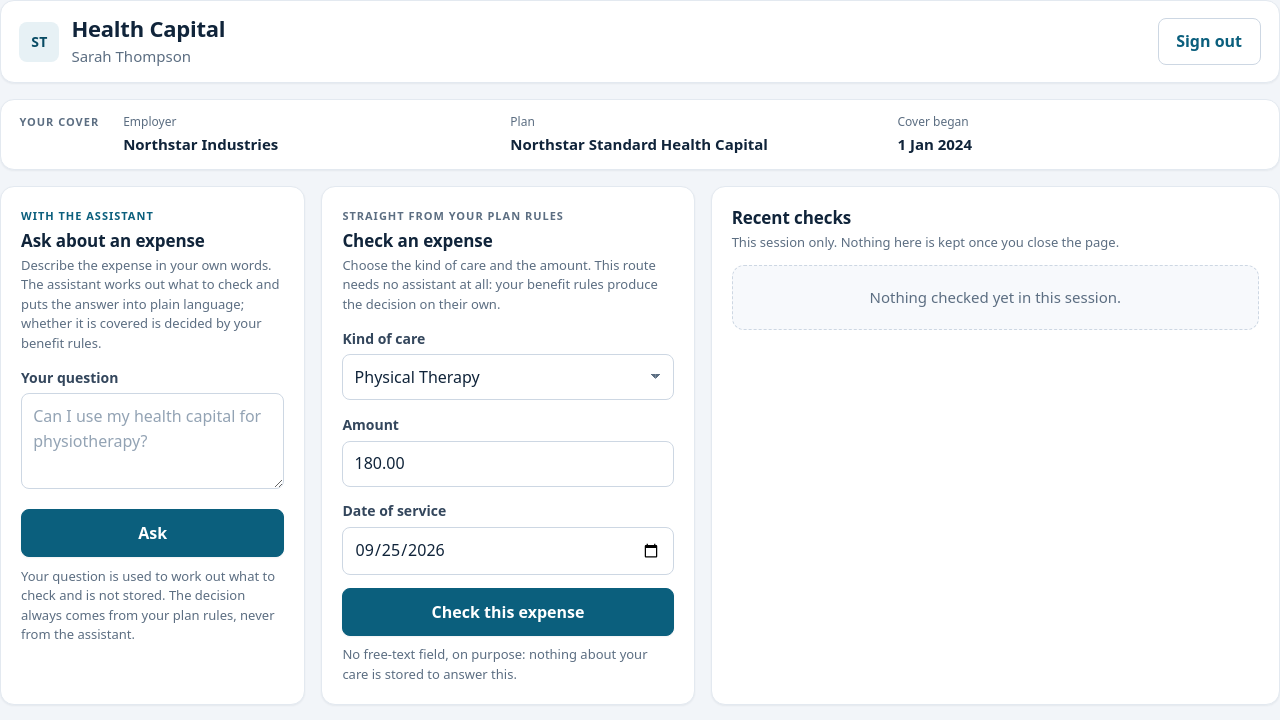
it: recent checks keep one entry per thing that happened › keeps both when the assistant asks the same thing back twice
In the text box labelled "Your question": (153, 441) [21,394,284,489], type "what about that appointment"
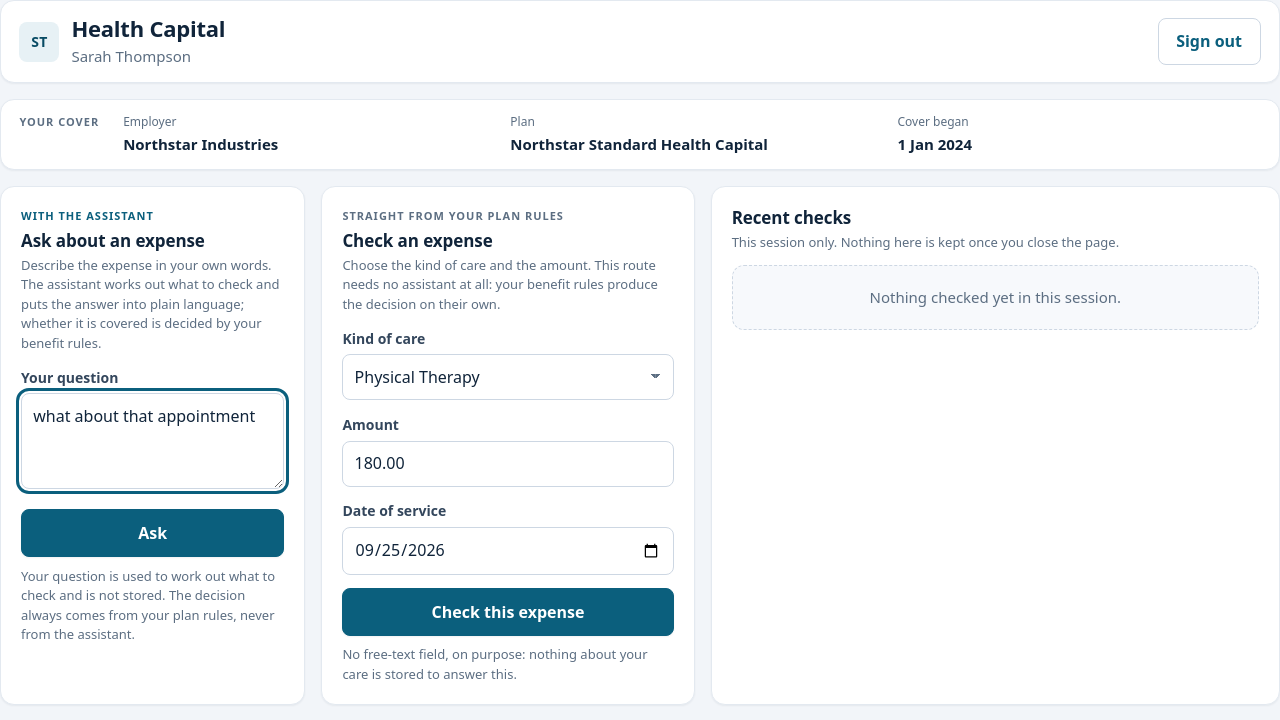
Click the button "Ask": (153, 533) [21,509,284,557]
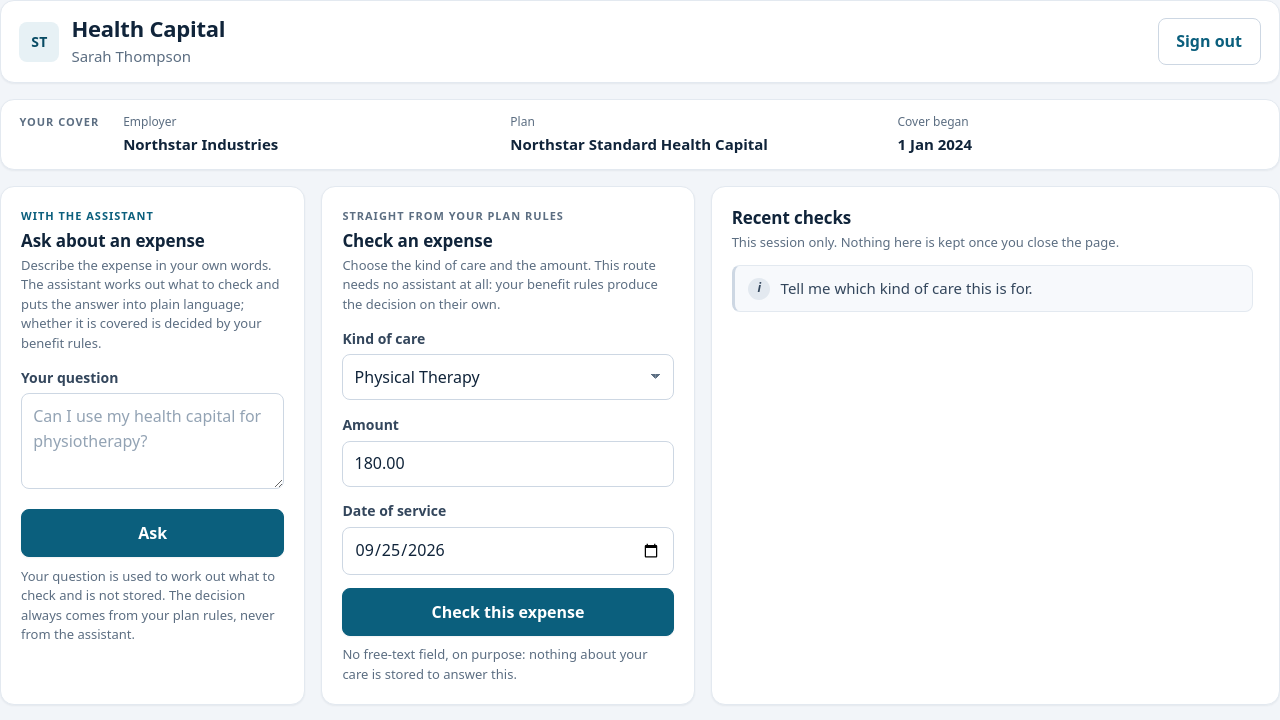
Now the text "Tell me which kind of care this is for." is shown, box [732,265,1253,312]
In the text box labelled "Your question": (153, 441) [21,394,284,489], type "and the other one"
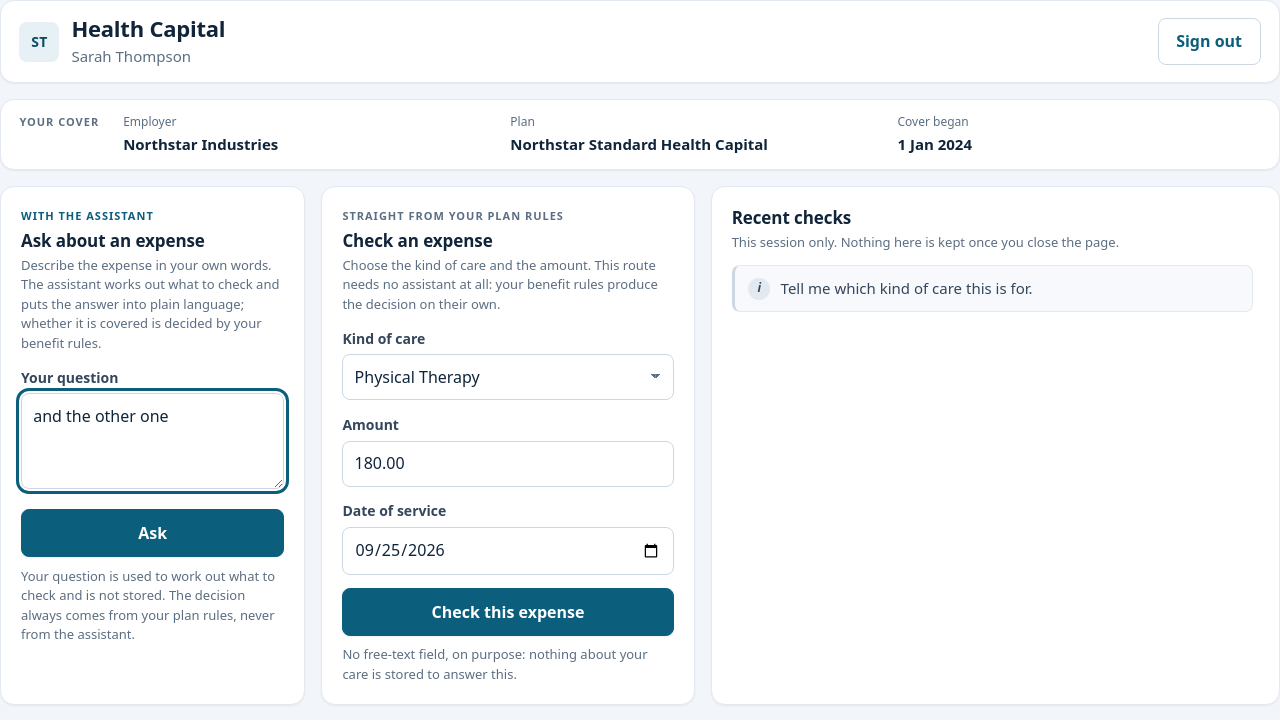
Click the button "Ask": (153, 533) [21,509,284,557]
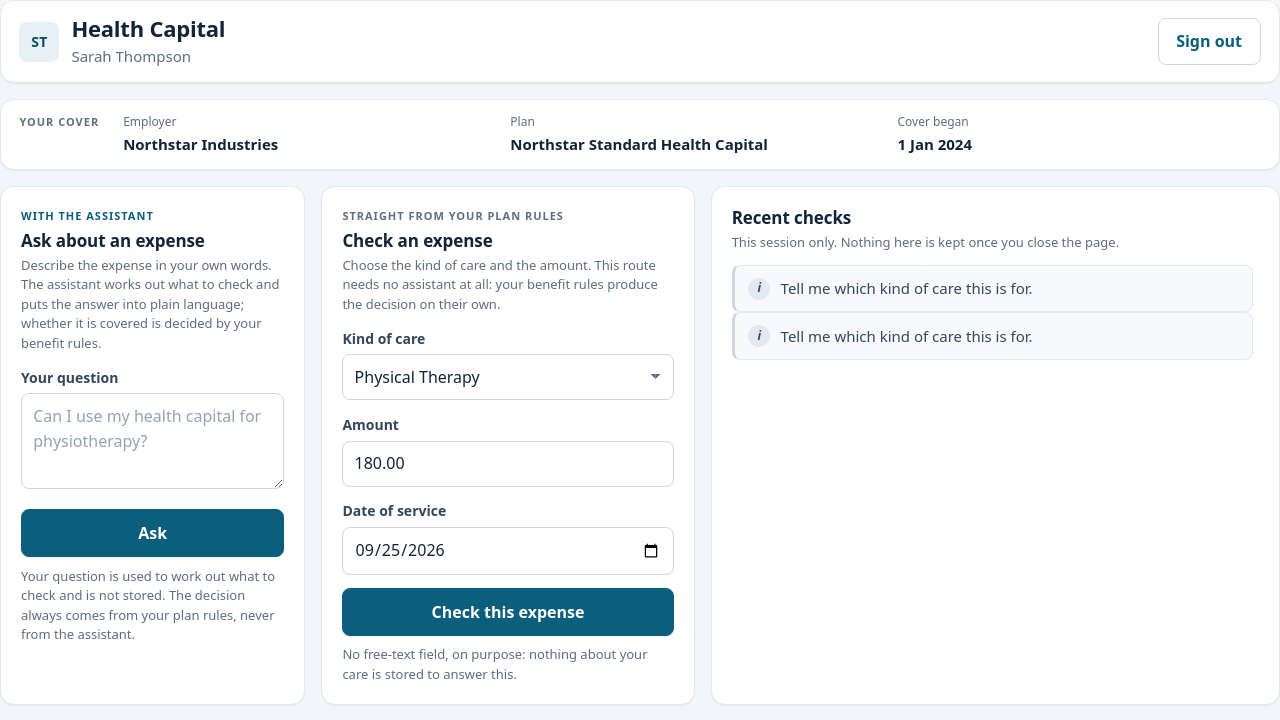
Now the number of elements with test id "clarification" is 2, box [732,265,1253,312]; [732,312,1253,360]
